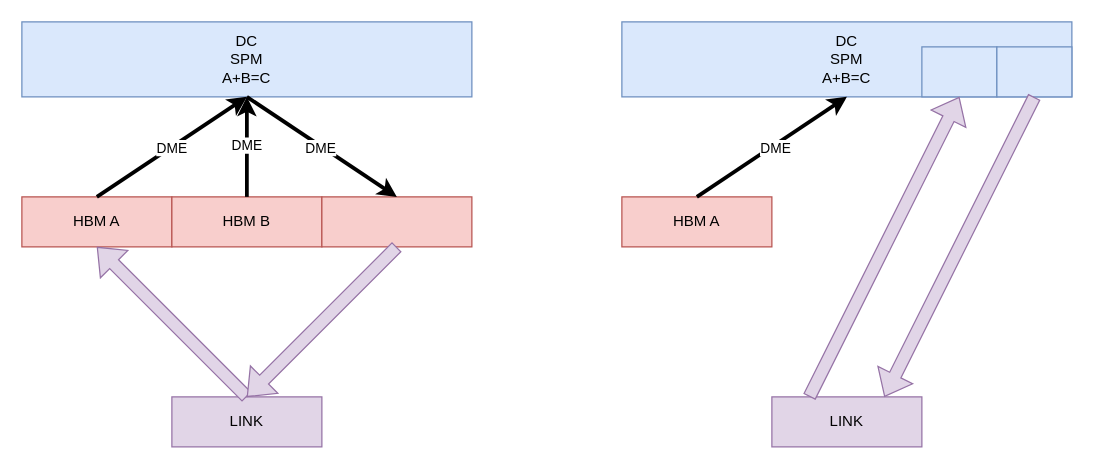
The diagram is 1094 pixels wide and 469 high, and some of its shapes have lost their labels. Here are the shapes that lost their labels. From the top down, the box of each, then its label:
(921, 46, 997, 97): SPM B
(996, 46, 1072, 97): SPM C
(321, 196, 472, 247): HBM C
